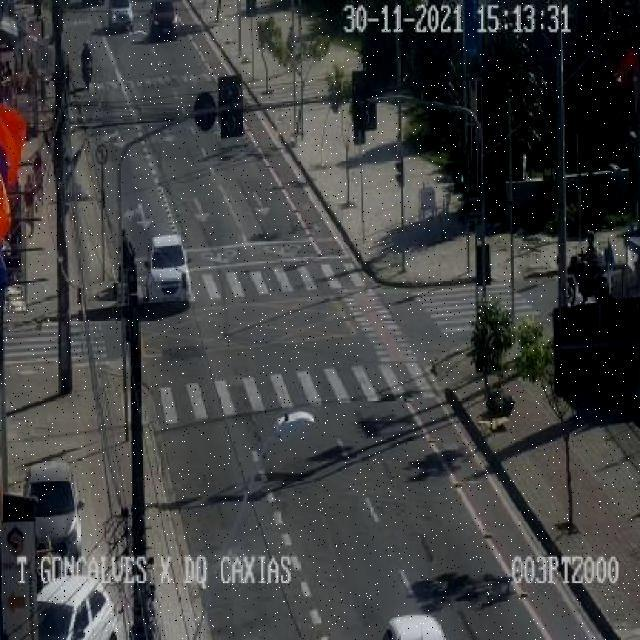Car: (143, 229, 195, 317), (147, 1, 180, 40), (106, 0, 137, 32)
Cycle: (80, 39, 95, 94)
